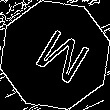M_SW: (22, 21, 88, 89)
